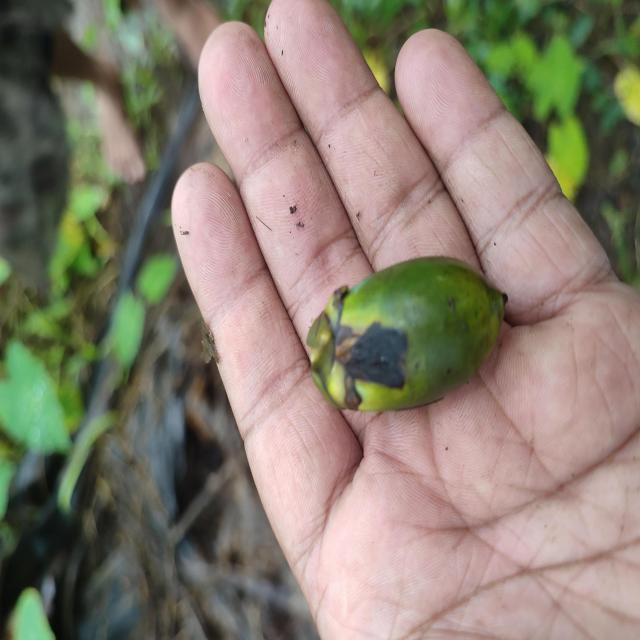damaged: (303, 257, 508, 415)
